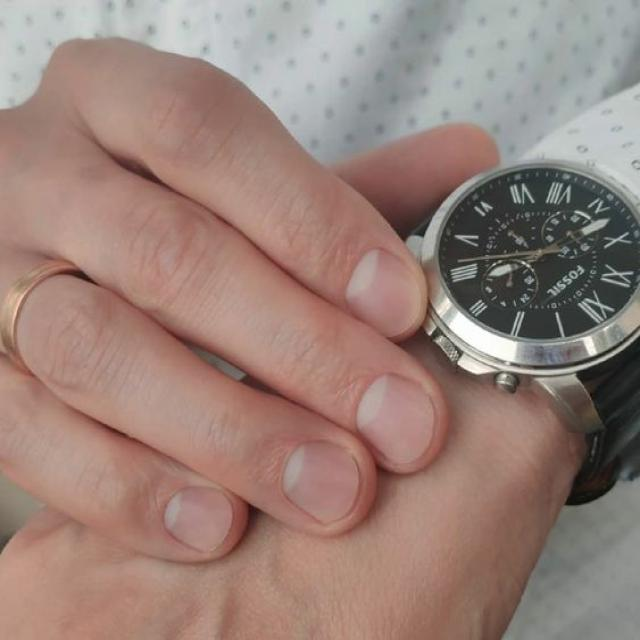Fingernail: (357, 375, 434, 462), (347, 251, 420, 336), (283, 443, 359, 522), (165, 487, 232, 550)
